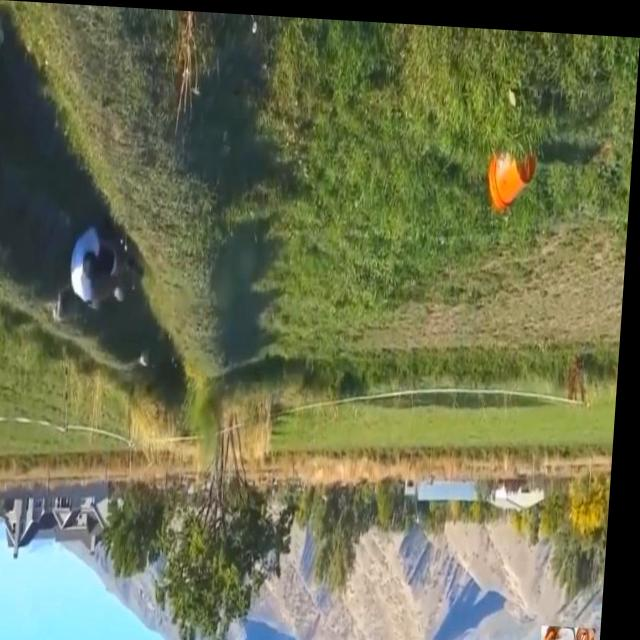fall: (70, 219, 139, 323)
